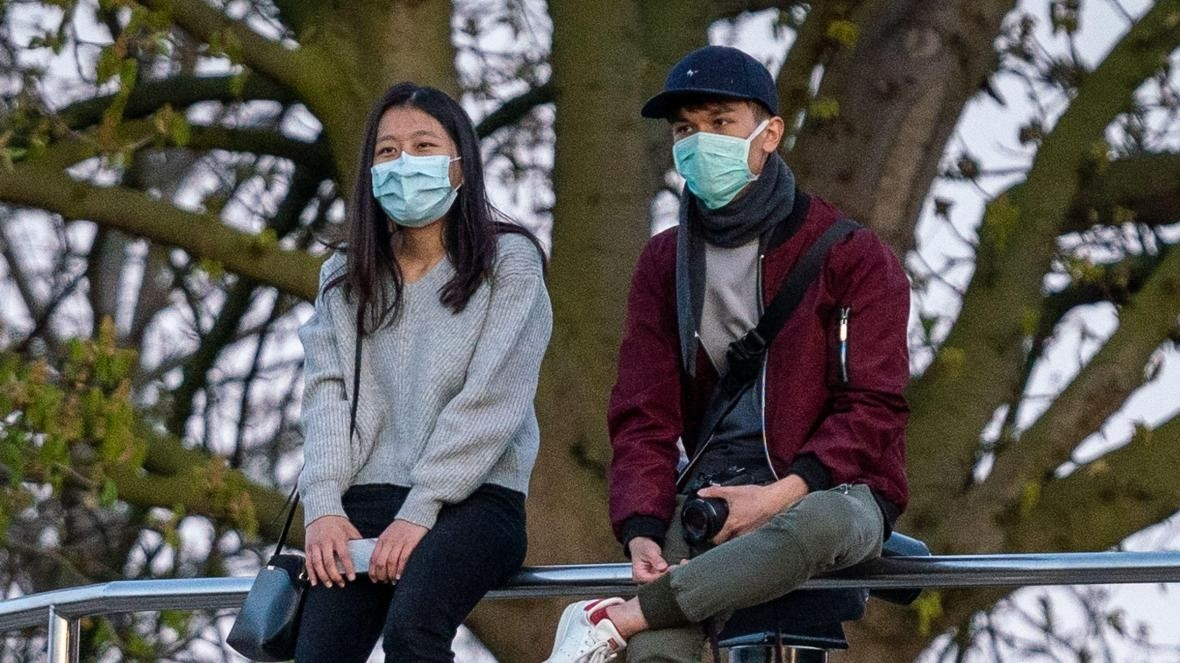face_with_mask: (656, 71, 789, 222), (358, 96, 474, 250)
